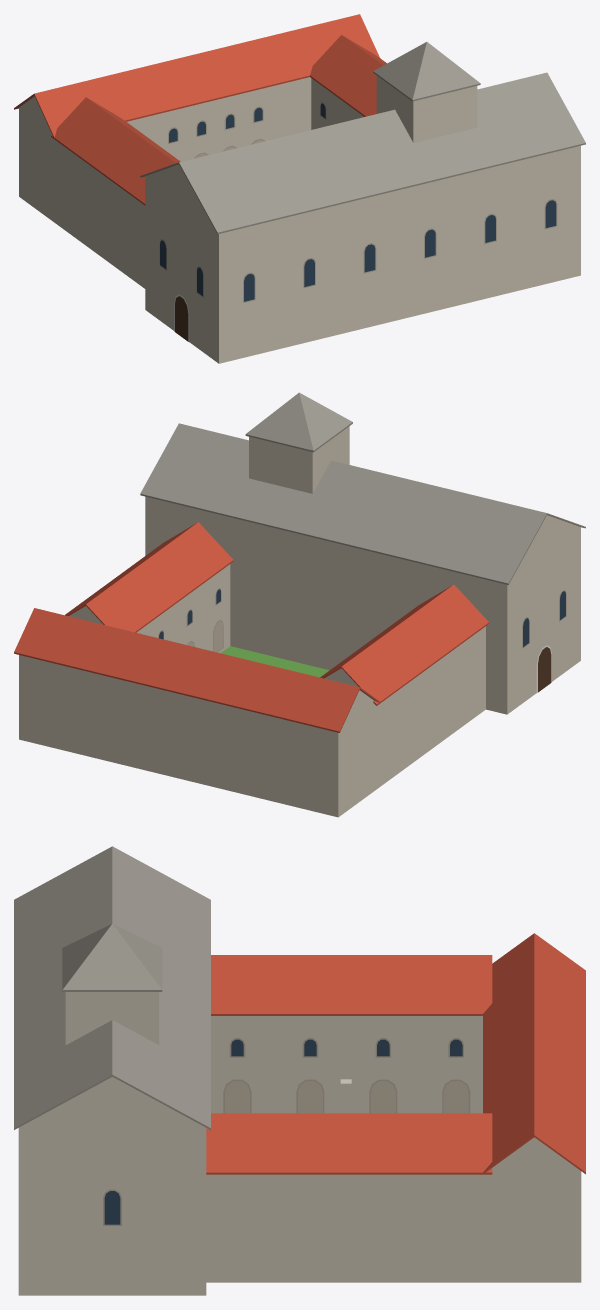
Rendered from abbaye_cistercienne.glb.
The picture shows the model from 3 angles, top to bottom: view 1: azimuth 30°, elevation 25°; view 2: azimuth 150°, elevation 25°; view 3: azimuth 270°, elevation 25°; orthographic projection. The views are drawn at different scales.
Parts seen in each view (by area): view 1: abbaye_cistercienne; view 2: abbaye_cistercienne; view 3: abbaye_cistercienne.
Part boxes in pixels (<box>): abbaye_cistercienne: <box>14,14,585,363</box>; abbaye_cistercienne: <box>14,392,585,817</box>; abbaye_cistercienne: <box>14,846,585,1295</box>.
Size of the model in its own units: 34.6 by 21.14 by 36.6.
1 material, 1 textured.
